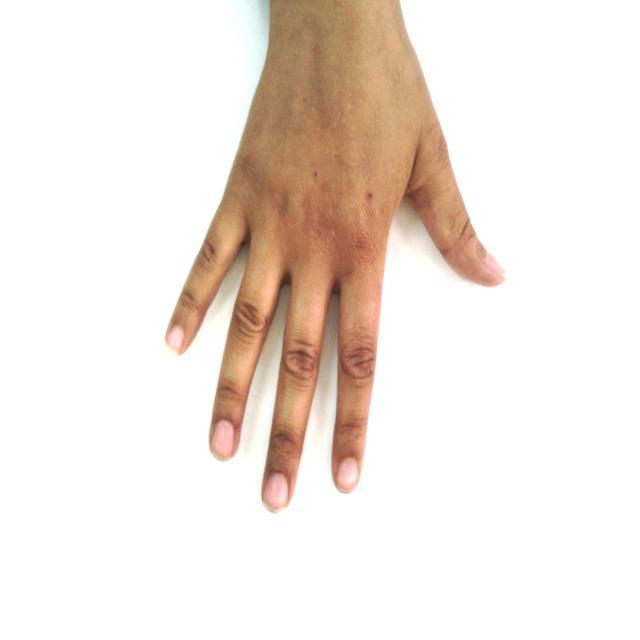Fingernail: (265, 474, 288, 509), (214, 421, 235, 457), (338, 458, 358, 489), (486, 252, 506, 276), (167, 327, 183, 350)
